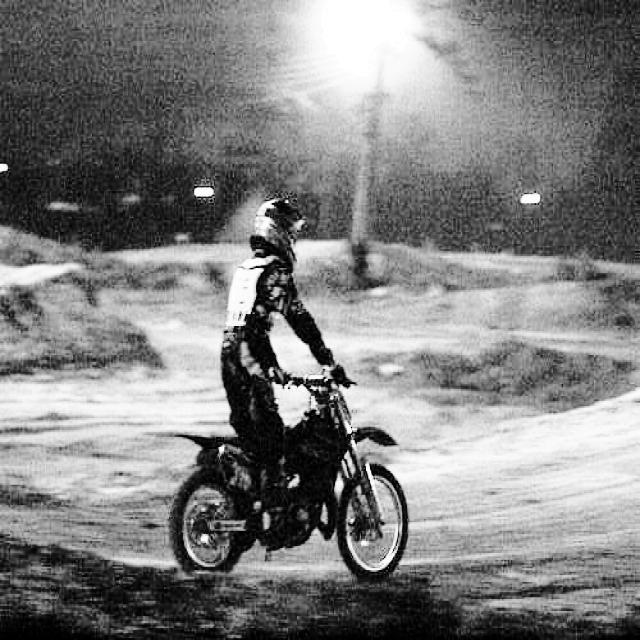Motorcycle: (156, 324, 440, 608)
Person: (221, 160, 330, 551)
